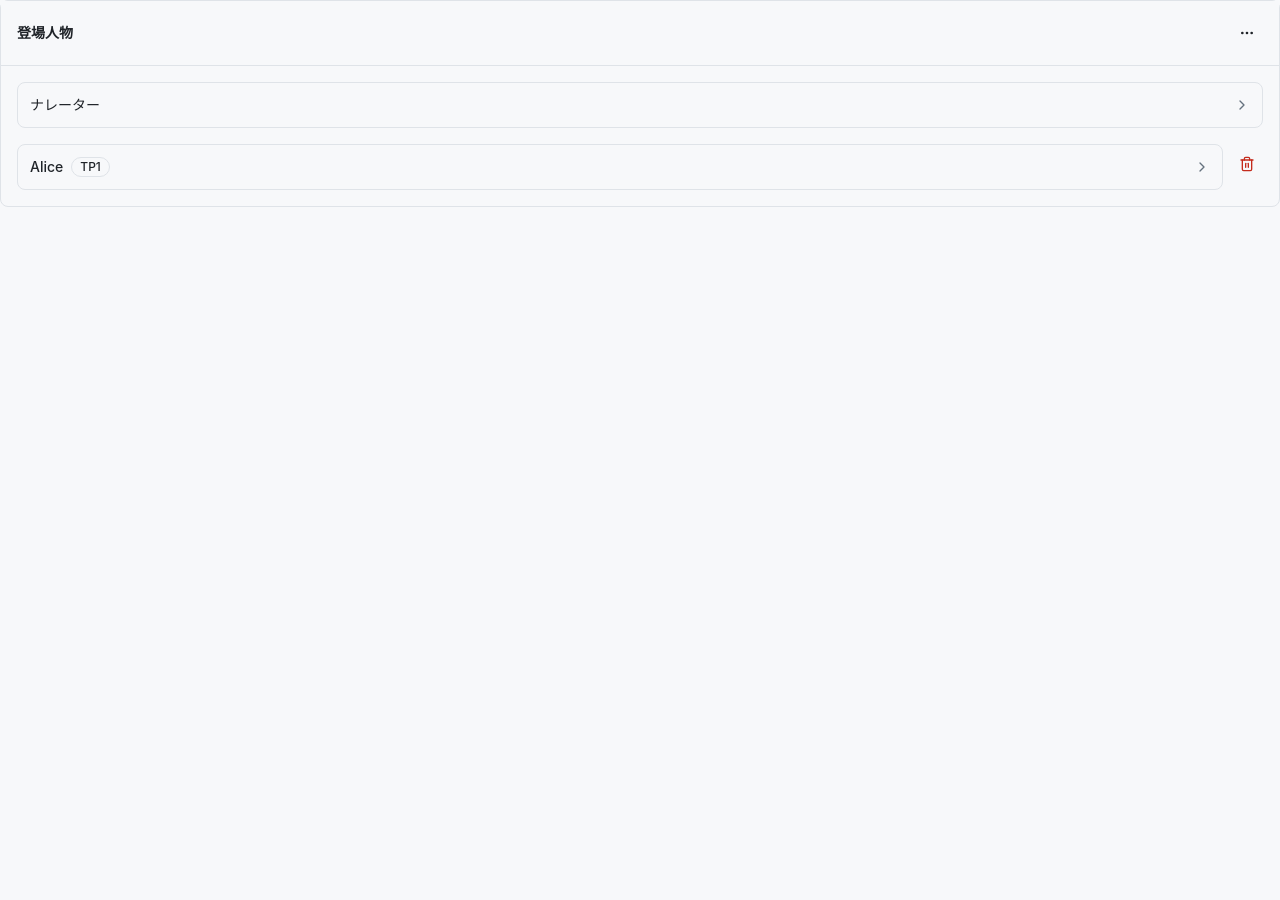
Test: AnalysisContent 編集ダイアログの声コントロール › 一括生成が途中で失敗しても完了済みの声を下書きに残す
Step 1. Click the button named "話者の操作メニュー" → (1247, 33), box [1231, 17, 1263, 49]
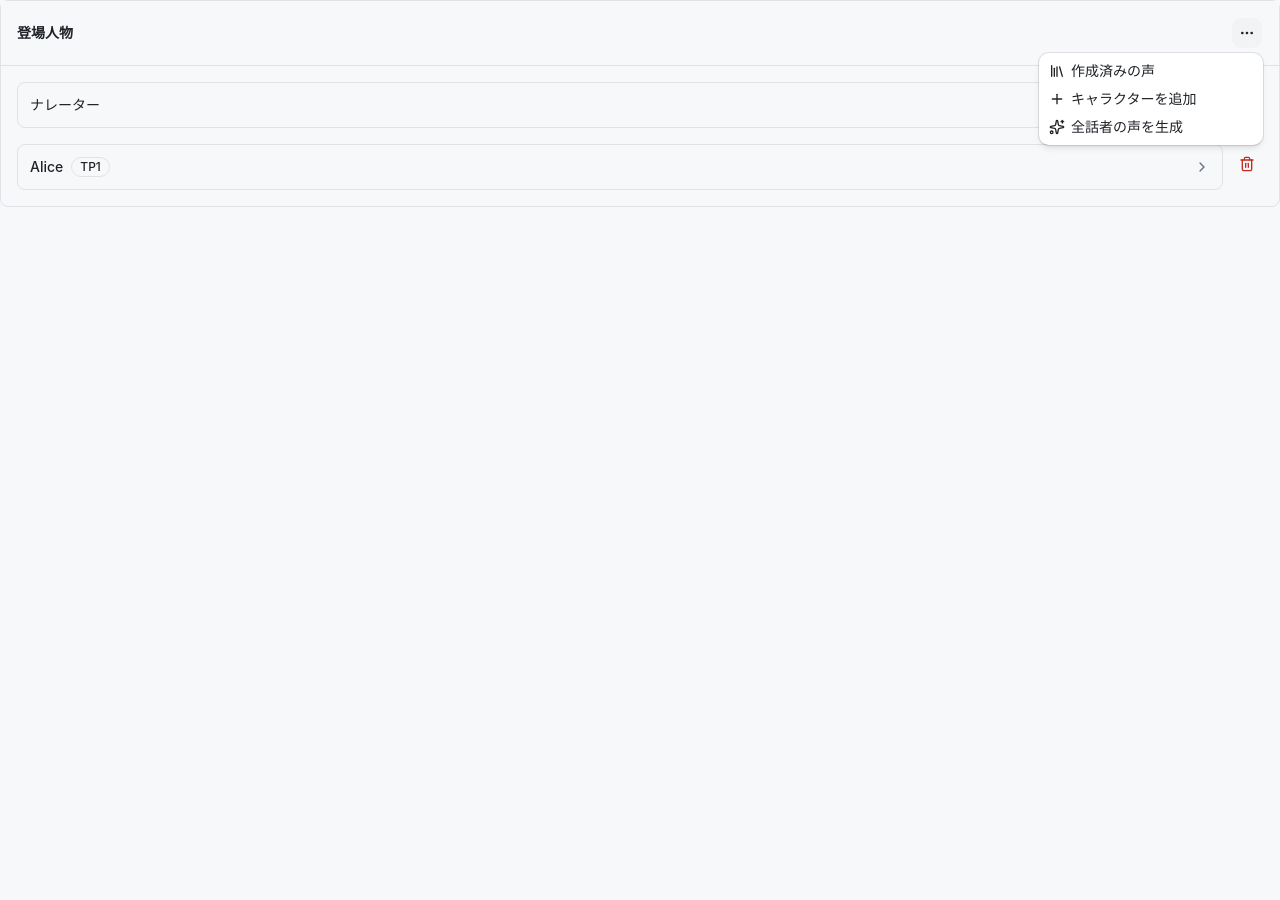
Step 2. Click the menu item "全話者の声を生成" → (1116, 126), box [1049, 118, 1183, 135]
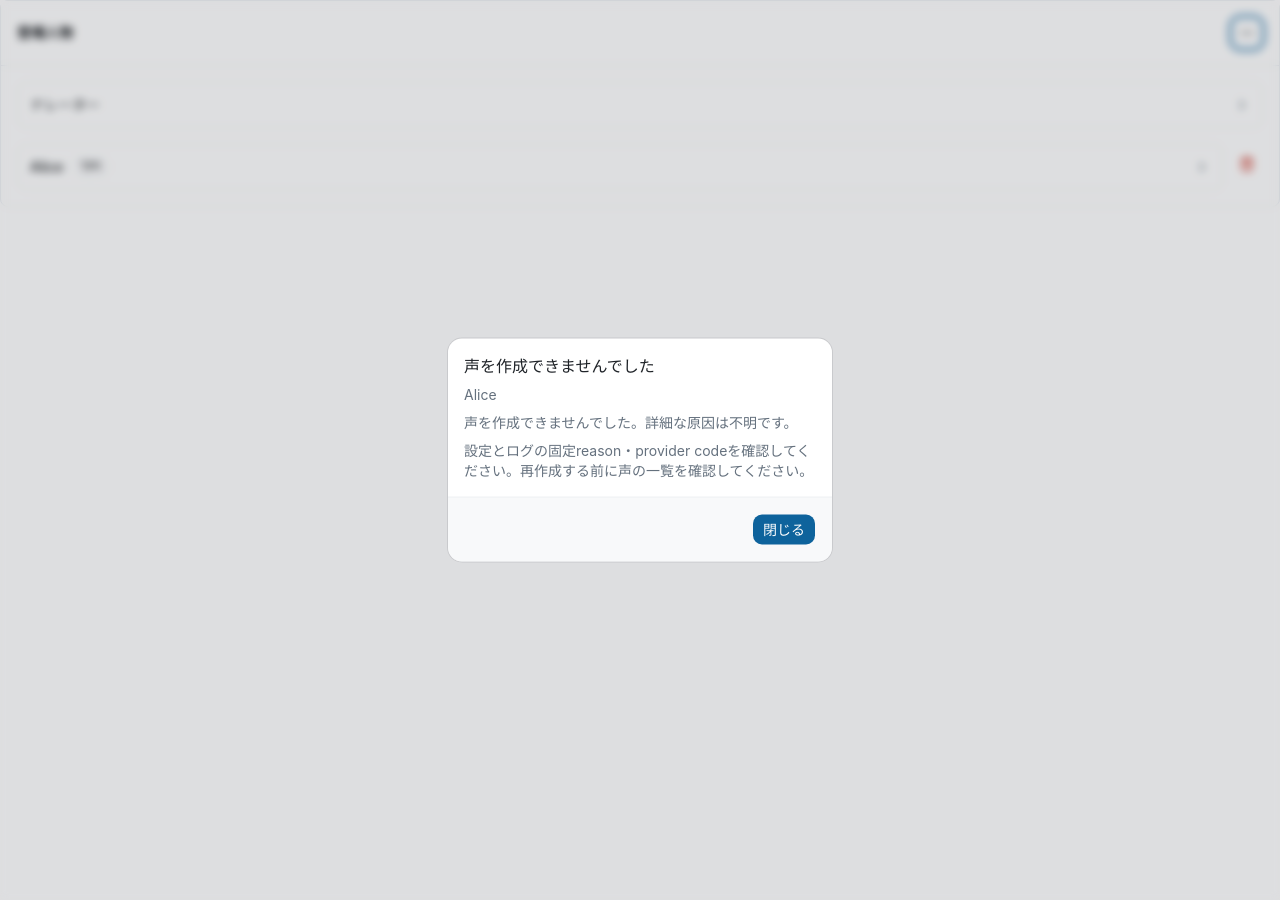
Now the text "声を作成できませんでした。詳細な原因は不明です。" is shown, box [464, 412, 816, 432]
